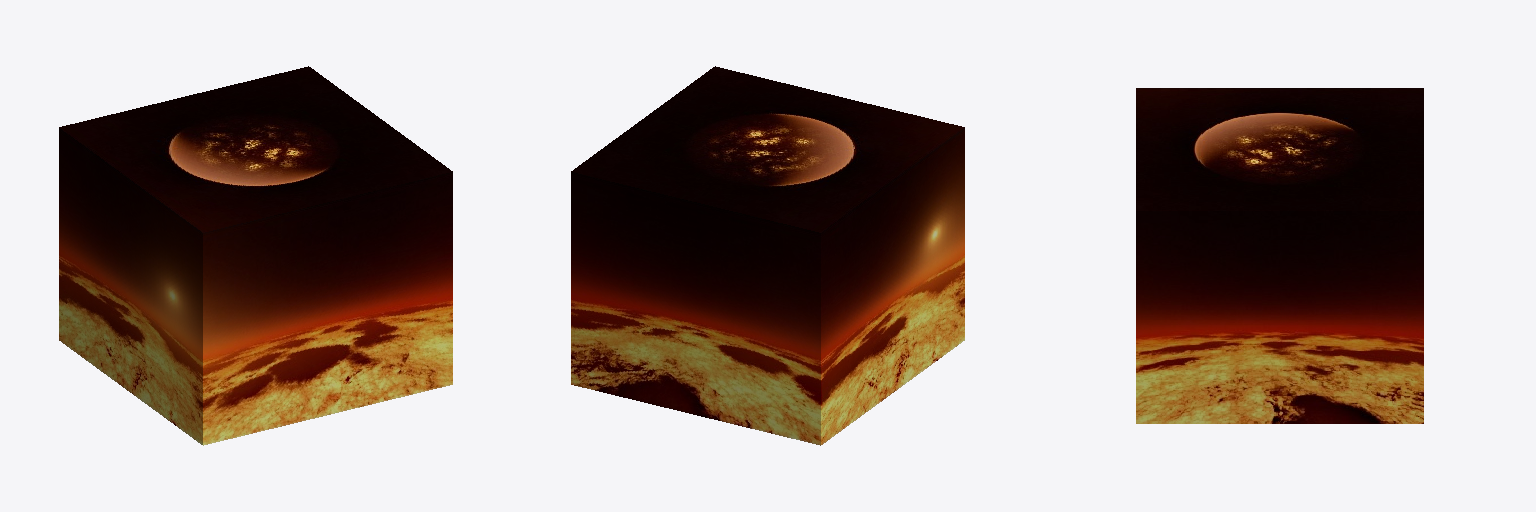
The picture shows the model from 3 angles: view 1: azimuth 30°, elevation 25°; view 2: azimuth 150°, elevation 25°; view 3: azimuth 270°, elevation 25°; orthographic projection.
Parts seen in each view (by area): view 1: Cube.001; view 2: Cube.001; view 3: Cube.001.
Part boxes in pixels (left/top/right/bottom): Cube.001: left=59, top=66, right=452, bottom=445; Cube.001: left=571, top=66, right=964, bottom=445; Cube.001: left=1136, top=88, right=1423, bottom=423.
Bounding box in the file's own units: 12.02 × 9.77 × 11.99.
1 materials, 1 textured.